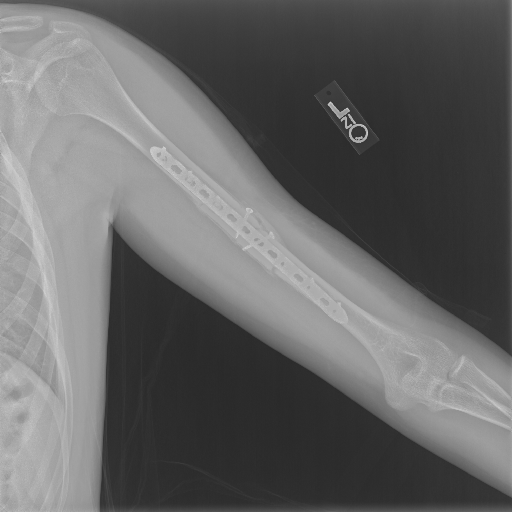implant: (145, 143, 348, 323)
